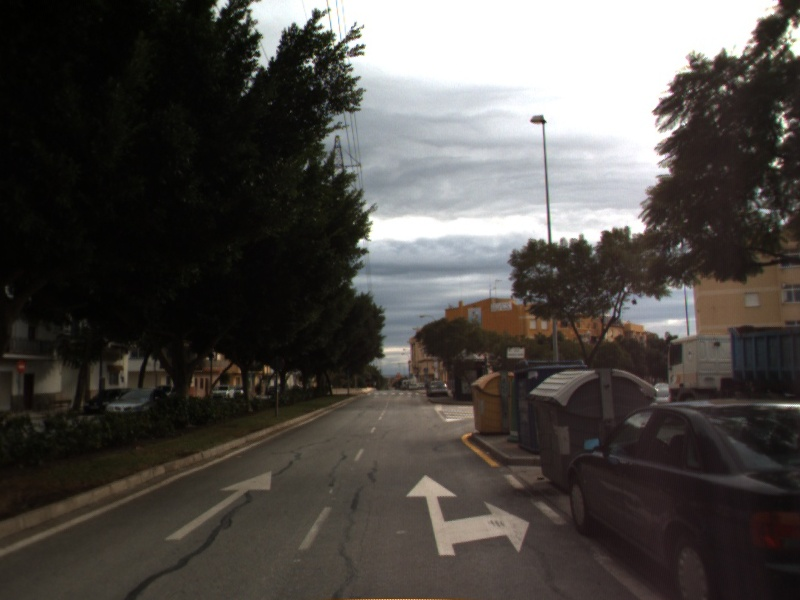STRAIGHT: (163, 469, 273, 542)
STRAIGHT_RIGHT: (404, 472, 532, 558)
